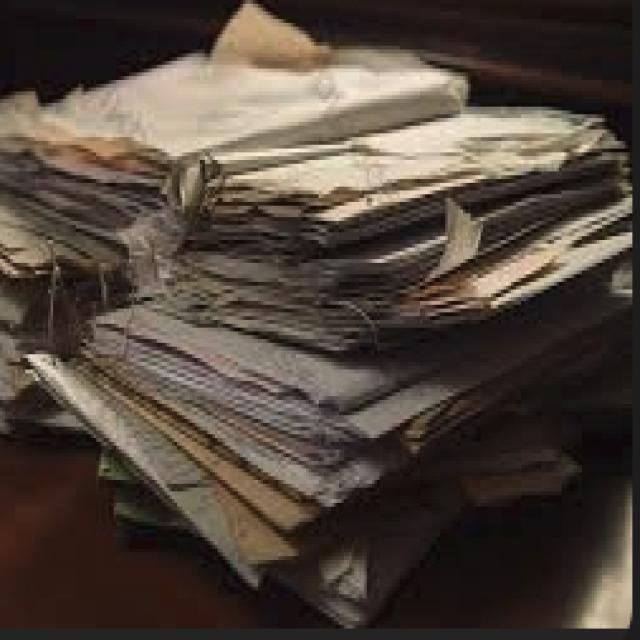KertasBekas: (0, 0, 632, 609)
